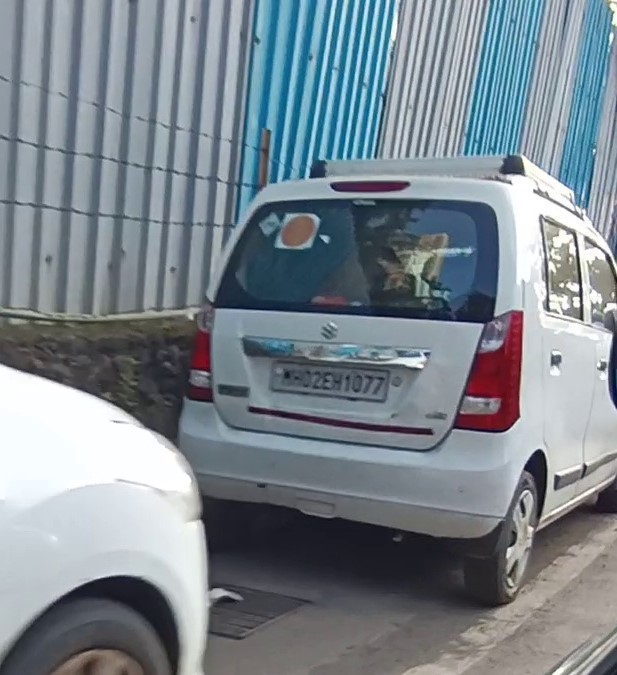MH02EH1077: (270, 359, 389, 402)
